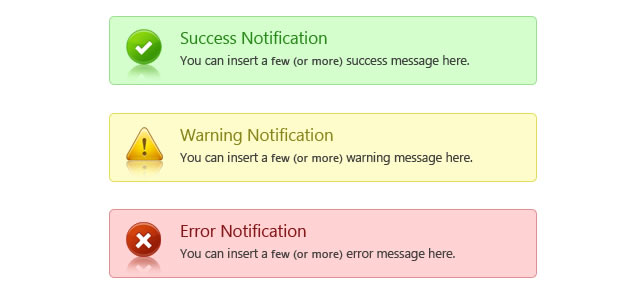error_message: (179, 248, 458, 262), (180, 222, 308, 242)
